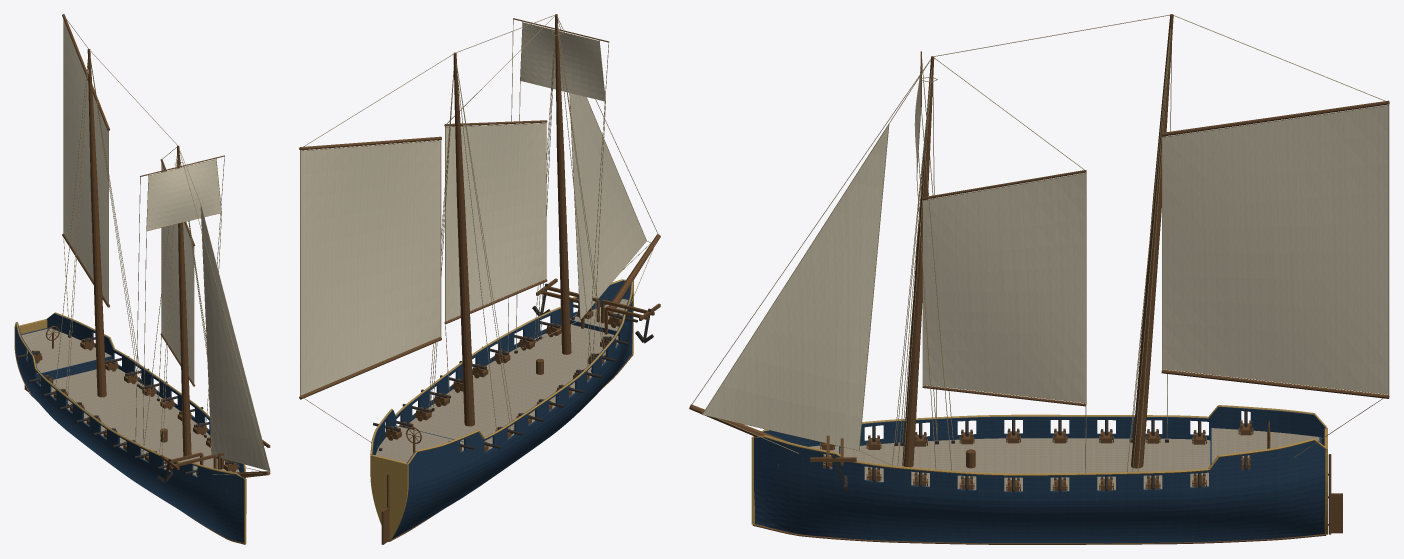
3 views of the same model, side by side, from view 1: azimuth 30°, elevation 25°; view 2: azimuth 150°, elevation 25°; view 3: azimuth 270°, elevation 25° (orthographic). The views are drawn at different scales.
Visible parts, largest first — view 1: lod1_hull_shell_starboard, lod1_main_gaff_00, lod1_jib_00, lod1_main_deck, lod1_fore_square_00, lod1_fore_gaff_01, lod1_main, lod1_castle_deck_0, lod1_hull_shell_port, lod1_fore, lod1_gunwale_starboard, lod1_castle_bulkhead_0_1 (+10 smaller); view 2: lod1_main_gaff_00, lod1_fore_gaff_01, lod1_hull_shell_starboard, lod1_jib_00, lod1_main_deck, lod1_fore_square_00, lod1_main, lod1_hull_shell_port, lod1_fore, lod1_stern_closure, lod1_castle_deck_0, lod1_gunwale_starboard (+5 smaller); view 3: lod1_main_gaff_00, lod1_hull_shell_port, lod1_fore_gaff_01, lod1_jib_00, lod1_main_deck, lod1_hull_shell_starboard, lod1_main, lod1_fore, lod1_castle_deck_0, lod1_gunwale_port, lod1_keel, lod1_gunwale_starboard (+2 smaller).
Boxes of the visible parts, left/top/right/bottom form: lod1_hull_shell_starboard: left=15, top=322, right=244, bottom=542; lod1_main_gaff_00: left=63, top=20, right=108, bottom=303; lod1_jib_00: left=201, top=206, right=269, bottom=470; lod1_main_deck: left=40, top=368, right=224, bottom=474; lod1_fore_square_00: left=146, top=159, right=221, bottom=230; lod1_fore_gaff_01: left=161, top=163, right=193, bottom=382; lod1_main: left=87, top=49, right=106, bottom=397; lod1_castle_deck_0: left=21, top=328, right=111, bottom=373; lod1_hull_shell_port: left=46, top=313, right=245, bottom=478; lod1_fore: left=177, top=145, right=191, bottom=458; lod1_gunwale_starboard: left=14, top=322, right=244, bottom=478; lod1_castle_bulkhead_0_1: left=37, top=356, right=112, bottom=382; lod1_main_gaff_00: left=300, top=141, right=440, bottom=395; lod1_fore_gaff_01: left=445, top=123, right=546, bottom=320; lod1_hull_shell_starboard: left=392, top=282, right=632, bottom=538; lod1_jib_00: left=570, top=93, right=646, bottom=318; lod1_main_deck: left=410, top=324, right=618, bottom=450; lod1_fore_square_00: left=520, top=23, right=604, bottom=100; lod1_main: left=453, top=52, right=474, bottom=426; lod1_hull_shell_port: left=372, top=280, right=630, bottom=455; lod1_fore: left=555, top=14, right=571, bottom=354; lod1_stern_closure: left=370, top=454, right=408, bottom=541; lod1_castle_deck_0: left=376, top=425, right=463, bottom=462; lod1_gunwale_starboard: left=407, top=281, right=633, bottom=464; lod1_main_gaff_00: left=1162, top=105, right=1388, bottom=394; lod1_hull_shell_port: left=754, top=437, right=1325, bottom=543; lod1_fore_gaff_01: left=923, top=173, right=1085, bottom=402; lod1_jib_00: left=703, top=125, right=888, bottom=449; lod1_main_deck: left=840, top=438, right=1210, bottom=491; lod1_hull_shell_starboard: left=753, top=406, right=1326, bottom=447; lod1_main: left=1131, top=14, right=1173, bottom=468; lod1_fore: left=902, top=56, right=934, bottom=467; lod1_castle_deck_0: left=1211, top=428, right=1319, bottom=463; lod1_gunwale_port: left=753, top=435, right=1326, bottom=475; lod1_keel: left=752, top=524, right=1326, bottom=544; lod1_gunwale_starboard: left=753, top=405, right=1326, bottom=436.
Size of the model in its own units: 9.17 by 31.16 by 37.29.
Materials: 7 (7 with a texture image).
